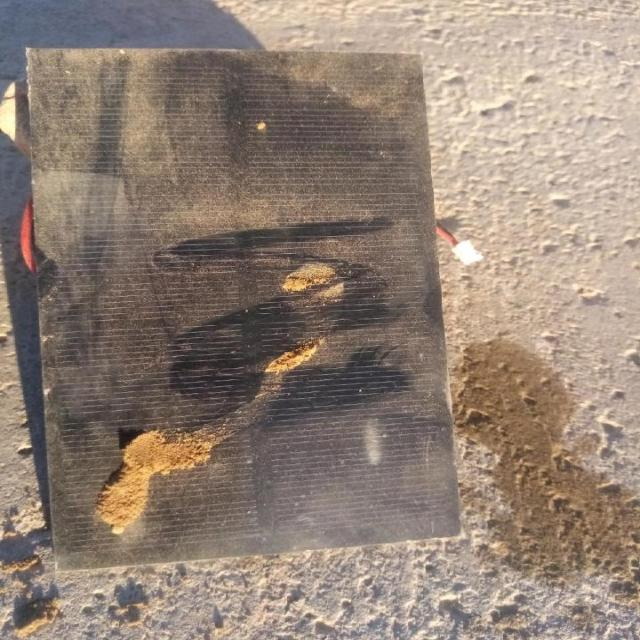faulty: (26, 53, 458, 547)
